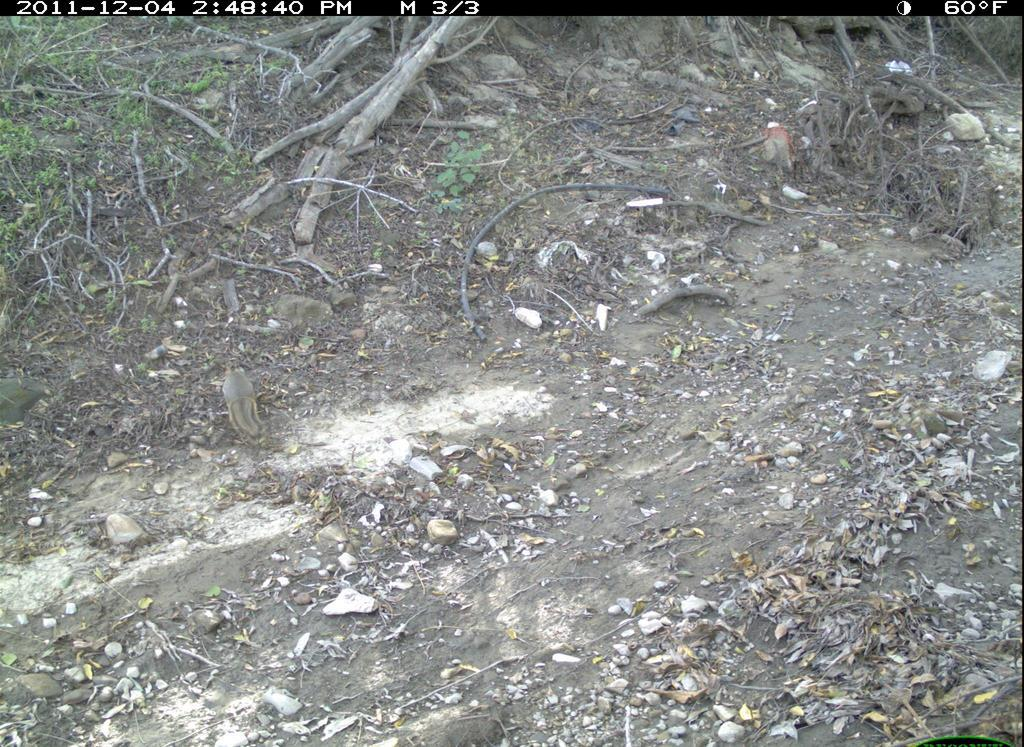squirrel: (189, 354, 280, 447)
